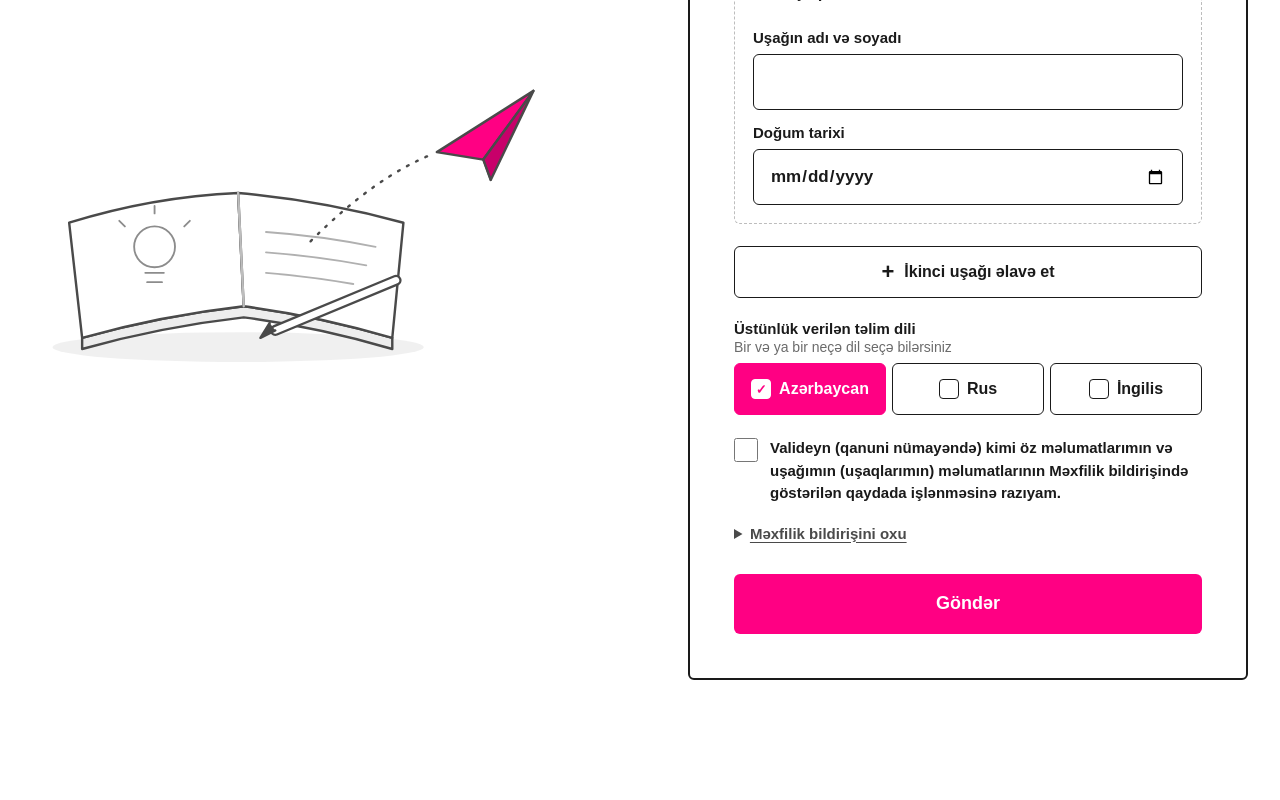
Test: Apply form › validation › reports every missing field, focuses the first one and sends nothing
(page scrolled)
Click the button "Göndər" at (968, 604), box [734,574,1202,634]
(page scrolled)
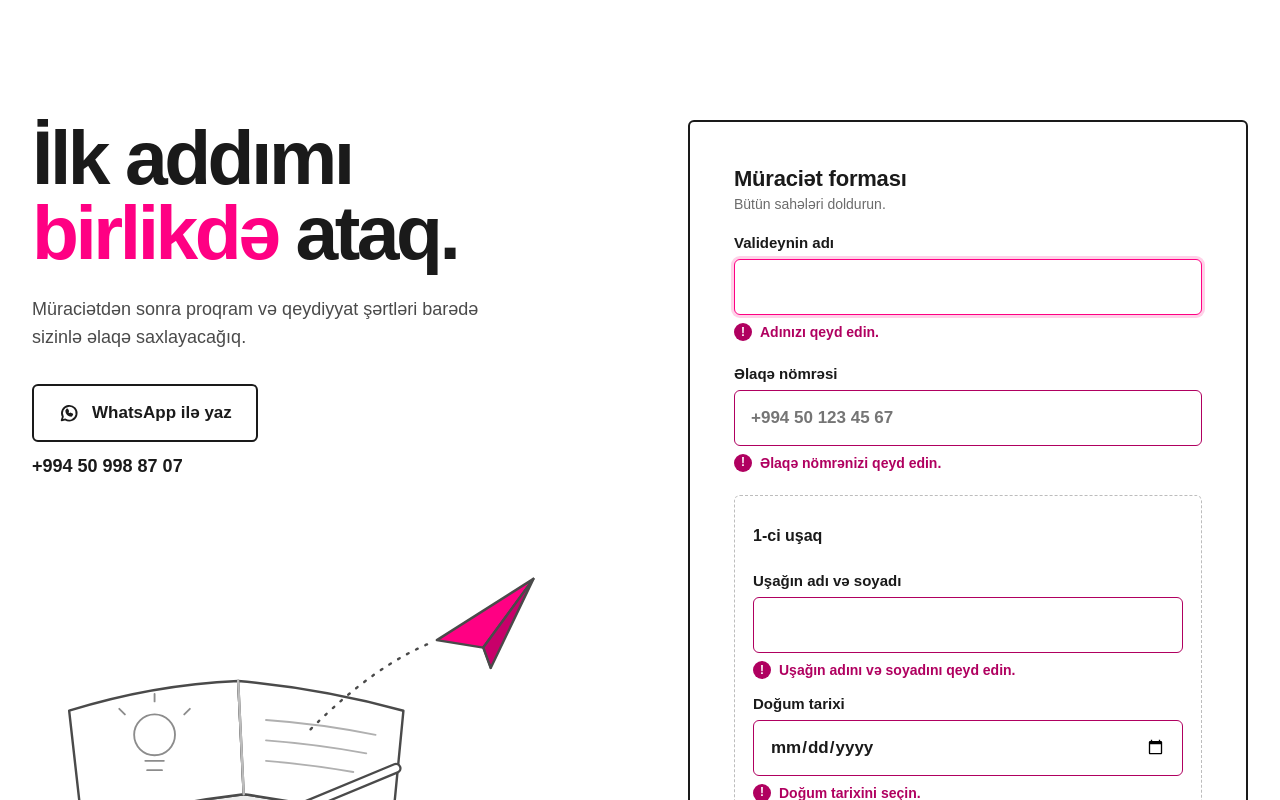
Check: the text "Adınızı qeyd edin." is shown, box [760,324,879,340]
Check: the text "Əlaqə nömrənizi qeyd edin." is shown, box [760,455,941,471]
Check: the text "Uşağın adını və soyadını qeyd edin." is shown, box [779,662,1016,678]
